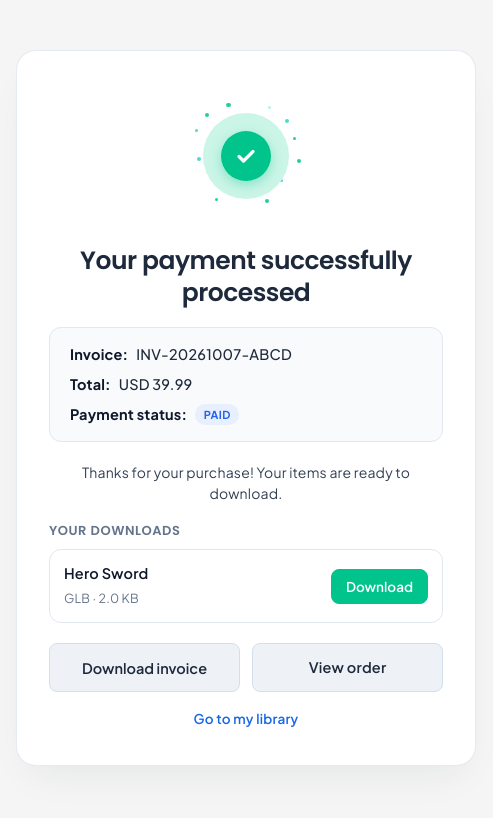
CheckoutSuccessPage › shows an error when the file download fails
Click the button "Download" at point(379, 586), box [331, 569, 428, 604]
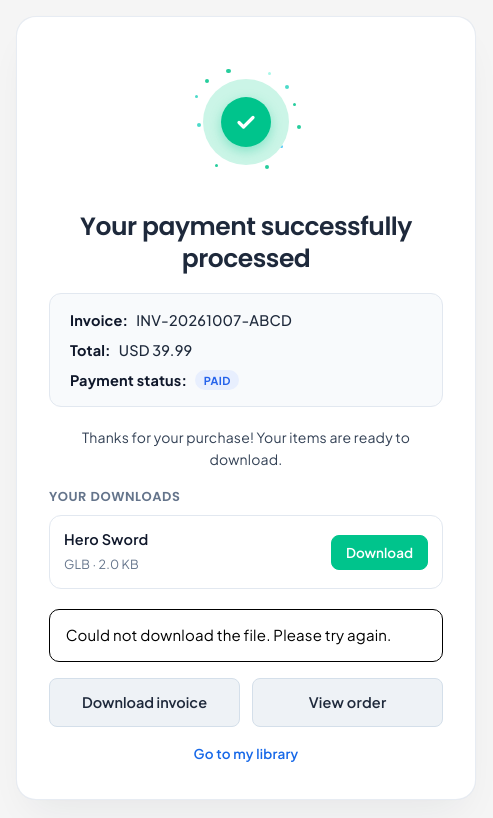
Expected: the message "Could not download the file. Please try again." is shown, [49, 609, 443, 662]
